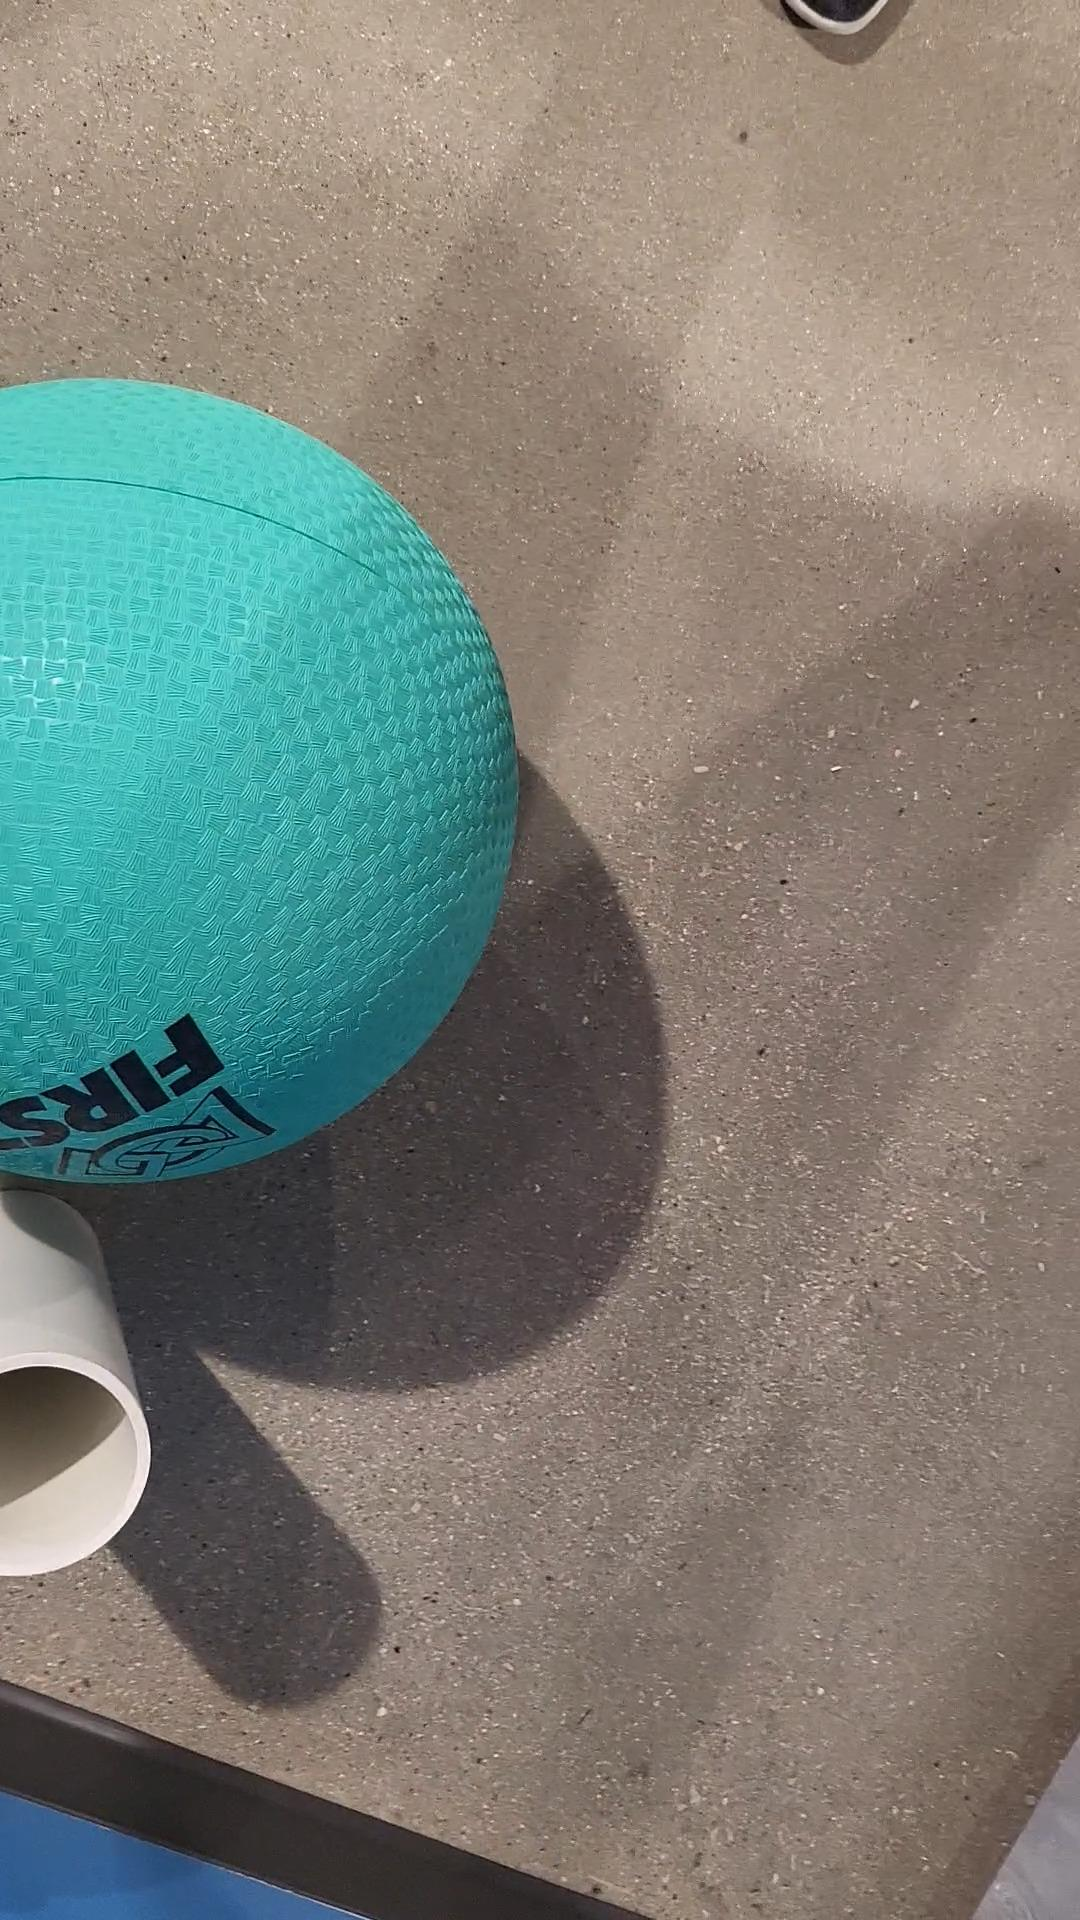algae: (0, 377, 512, 1180)
coral: (0, 1185, 152, 1575)
